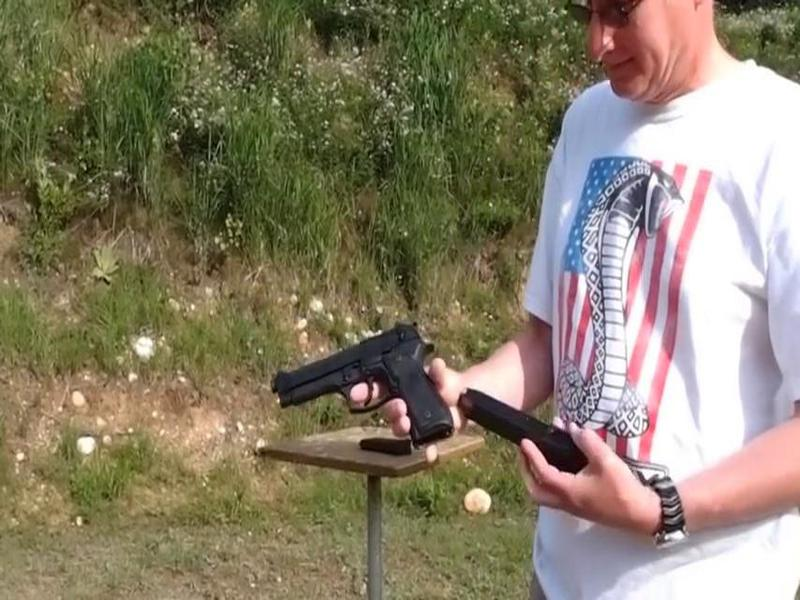Pistola: (265, 314, 460, 461)
